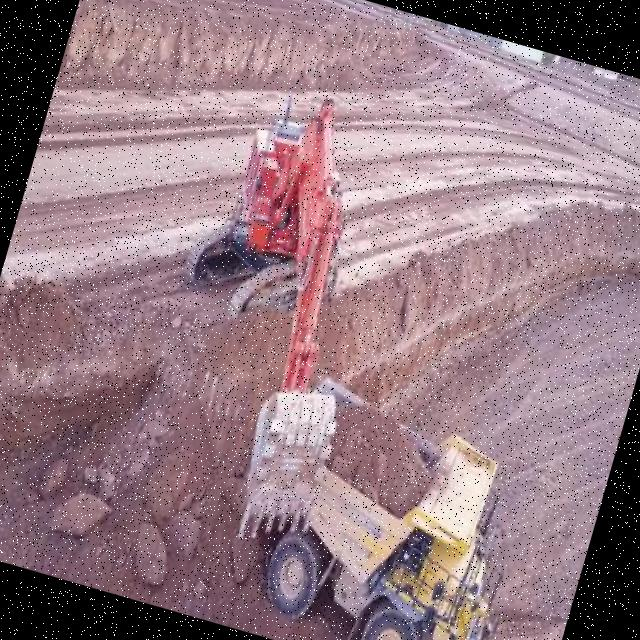Dump Truck: (241, 364, 552, 640)
Excavator: (116, 70, 432, 559)
